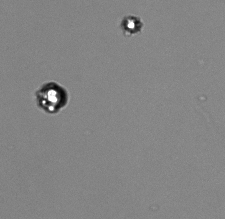Living Cell: (37, 82, 68, 113), (121, 15, 141, 34)
